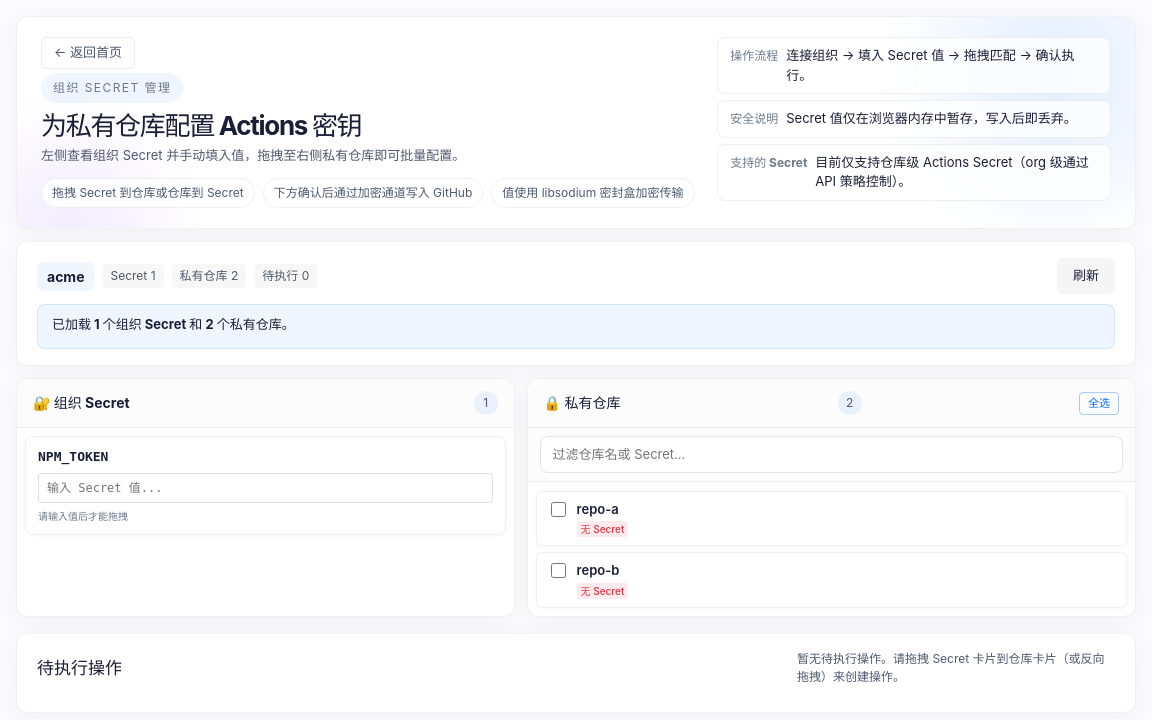
it: SecretManager › filters private repos by name and shows matching count
The image size is (1152, 720).
Expected: the link "repo-a" is shown, [577, 501, 619, 517]
Expected: the link "repo-b" is shown, [577, 562, 619, 578]
Type "repo-a" into the field named "过滤私有仓库" at (831, 455), box [540, 436, 1123, 474]
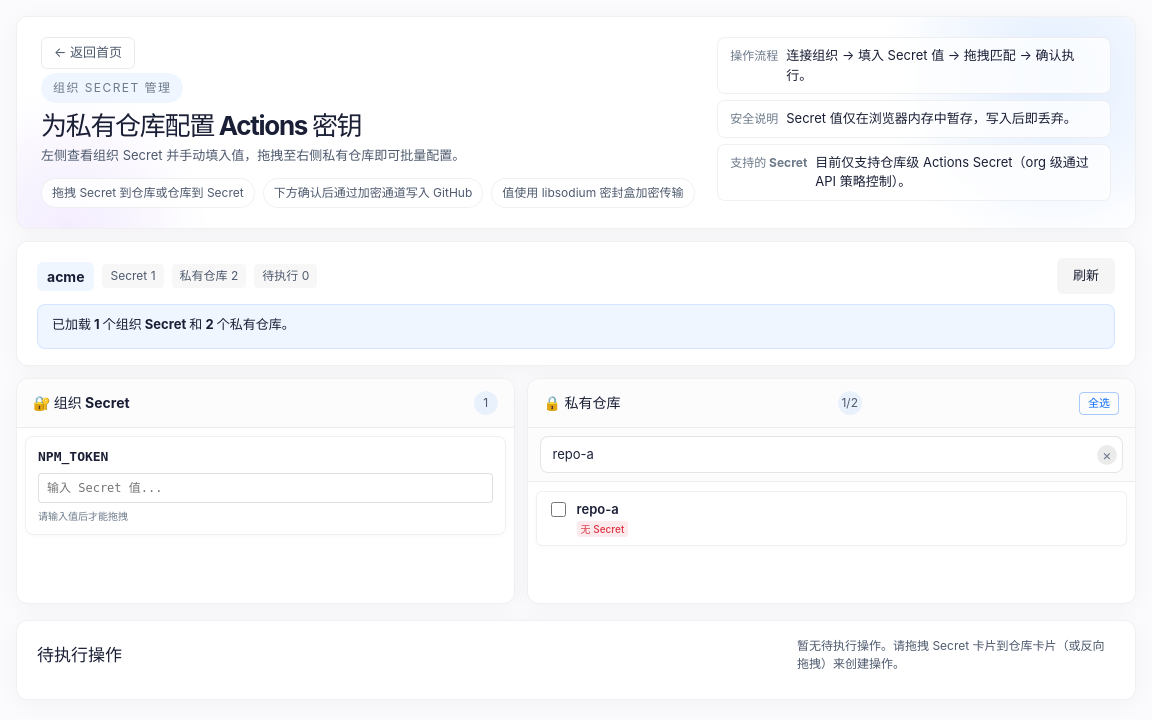
Expected: the link "repo-a" is shown, [577, 501, 619, 517]
Now the link "repo-b" is gone
Now the text "1/2" is shown, box [838, 392, 862, 416]
Click the button named "清空仓库过滤" at (1107, 455), box [1097, 445, 1117, 465]
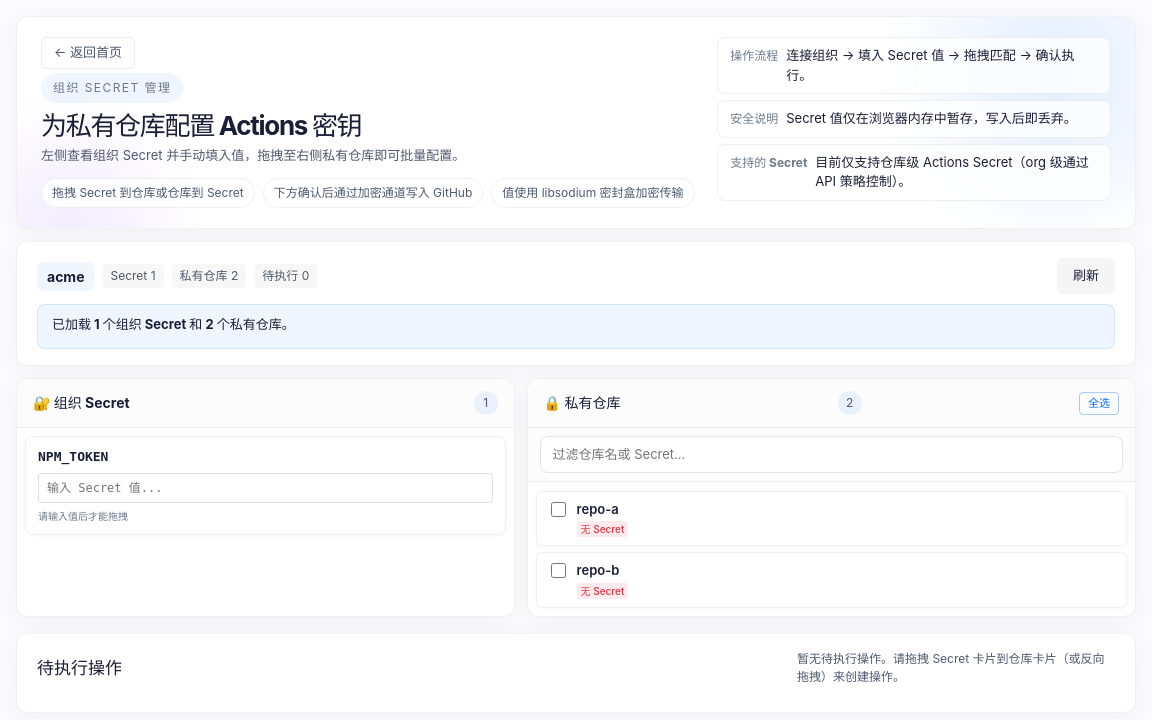
Now the link "repo-b" is shown, box [577, 562, 619, 578]
Now the text "1/2" is gone
